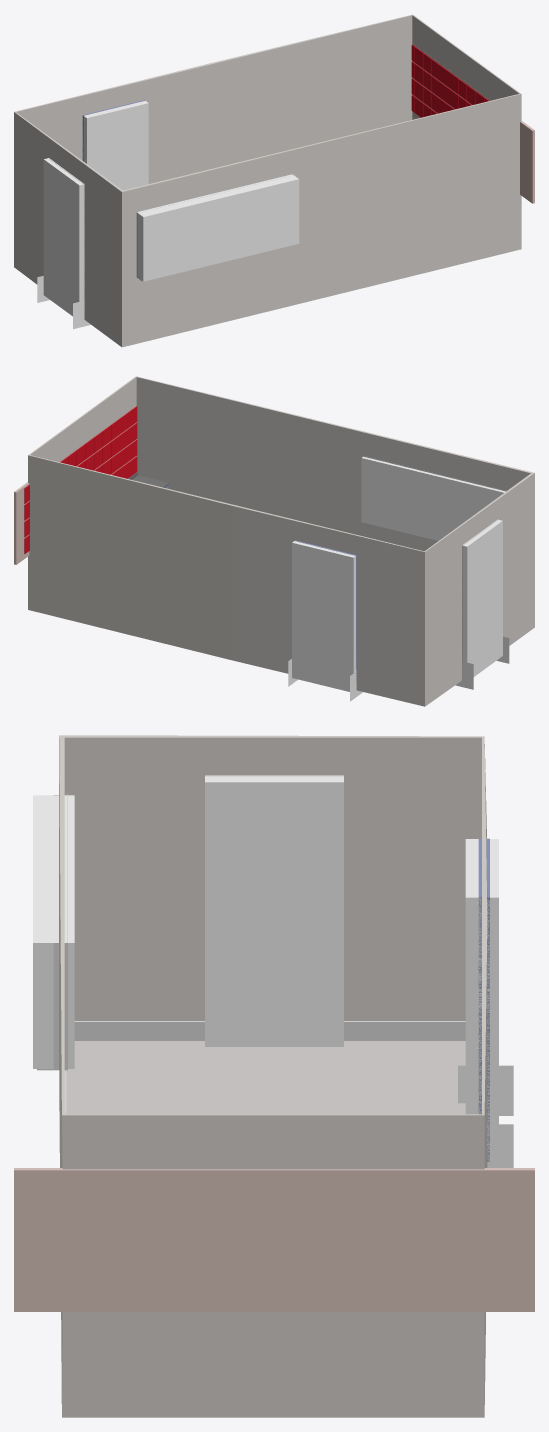
File: room.fbx
The picture shows the model from 3 angles, top to bottom: view 1: azimuth 30°, elevation 25°; view 2: azimuth 150°, elevation 25°; view 3: azimuth 270°, elevation 25°; orthographic projection. The views are drawn at different scales.
Parts seen in each view (by area): view 1: Room.001, CTRL_Hole, CTRL_Hole.002, CTRL_Hole.003, Cube, CTRL_Baseboard.001; view 2: Room.001, CTRL_Hole.003, CTRL_Hole, CTRL_Hole.002, Cube, CTRL_Baseboard.001; view 3: Room.001, CTRL_Hole.002, Floor.001, CTRL_Hole, CTRL_Hole.003, Baseboard, CTRL_Baseboard.002, DoorFrame.002, WindowFrame.
Part boxes in pixels (x1=…): Room.001: x1=14, y1=14, x2=534, y2=347; CTRL_Hole: x1=137, y1=174, x2=299, y2=281; CTRL_Hole.002: x1=43, y1=158, x2=84, y2=320; CTRL_Hole.003: x1=82, y1=100, x2=148, y2=190; Cube: x1=411, y1=44, x2=488, y2=117; CTRL_Baseboard.001: x1=37, y1=276, x2=90, y2=329; Room.001: x1=14, y1=376, x2=534, y2=706; CTRL_Hole.003: x1=292, y1=541, x2=356, y2=692; CTRL_Hole: x1=361, y1=456, x2=505, y2=540; CTRL_Hole.002: x1=462, y1=520, x2=502, y2=681; Cube: x1=24, y1=406, x2=137, y2=553; CTRL_Baseboard.001: x1=455, y1=636, x2=509, y2=689; Room.001: x1=14, y1=735, x2=534, y2=1417; CTRL_Hole.002: x1=205, y1=776, x2=343, y2=1046; Floor.001: x1=66, y1=1041, x2=465, y2=1114; CTRL_Hole: x1=33, y1=795, x2=74, y2=1068; CTRL_Hole.003: x1=465, y1=839, x2=498, y2=1162; Baseboard: x1=64, y1=1021, x2=465, y2=1114; CTRL_Baseboard.002: x1=458, y1=1065, x2=513, y2=1167; DoorFrame.002: x1=478, y1=838, x2=489, y2=1161; WindowFrame: x1=53, y1=793, x2=67, y2=1070.
Size of the model in its own units: 667 by 250 by 375.
